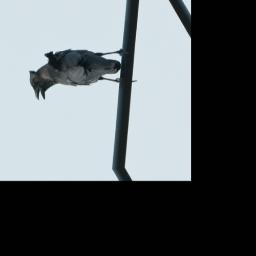Crow: (20, 43, 142, 102)
